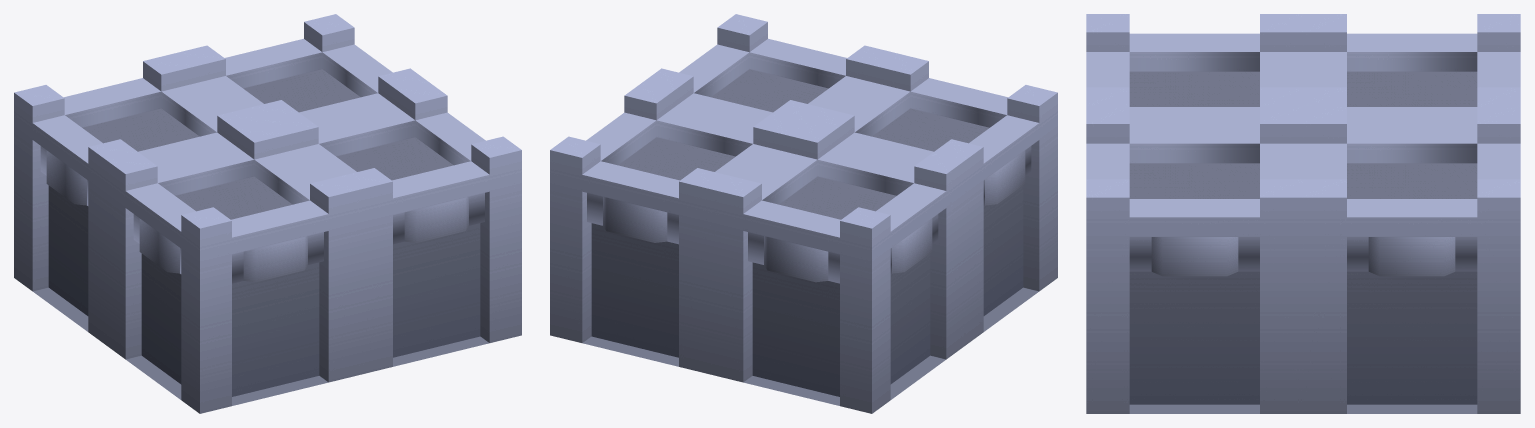
Rendered from Tile_15.glb.
The picture shows the model from 3 angles, left to right: view 1: azimuth 30°, elevation 25°; view 2: azimuth 150°, elevation 25°; view 3: azimuth 270°, elevation 25°; orthographic projection. The views are drawn at different scales.
Parts seen in each view (by area): view 1: tile_15; view 2: tile_15; view 3: tile_15.
Part boxes in pixels (left/top/right/bottom): tile_15: left=14, top=14, right=521, bottom=413; tile_15: left=550, top=14, right=1057, bottom=413; tile_15: left=1086, top=14, right=1520, bottom=413.
Bounding box in the file's own units: 2 × 1.1 × 2.
4 materials, 4 textured.
